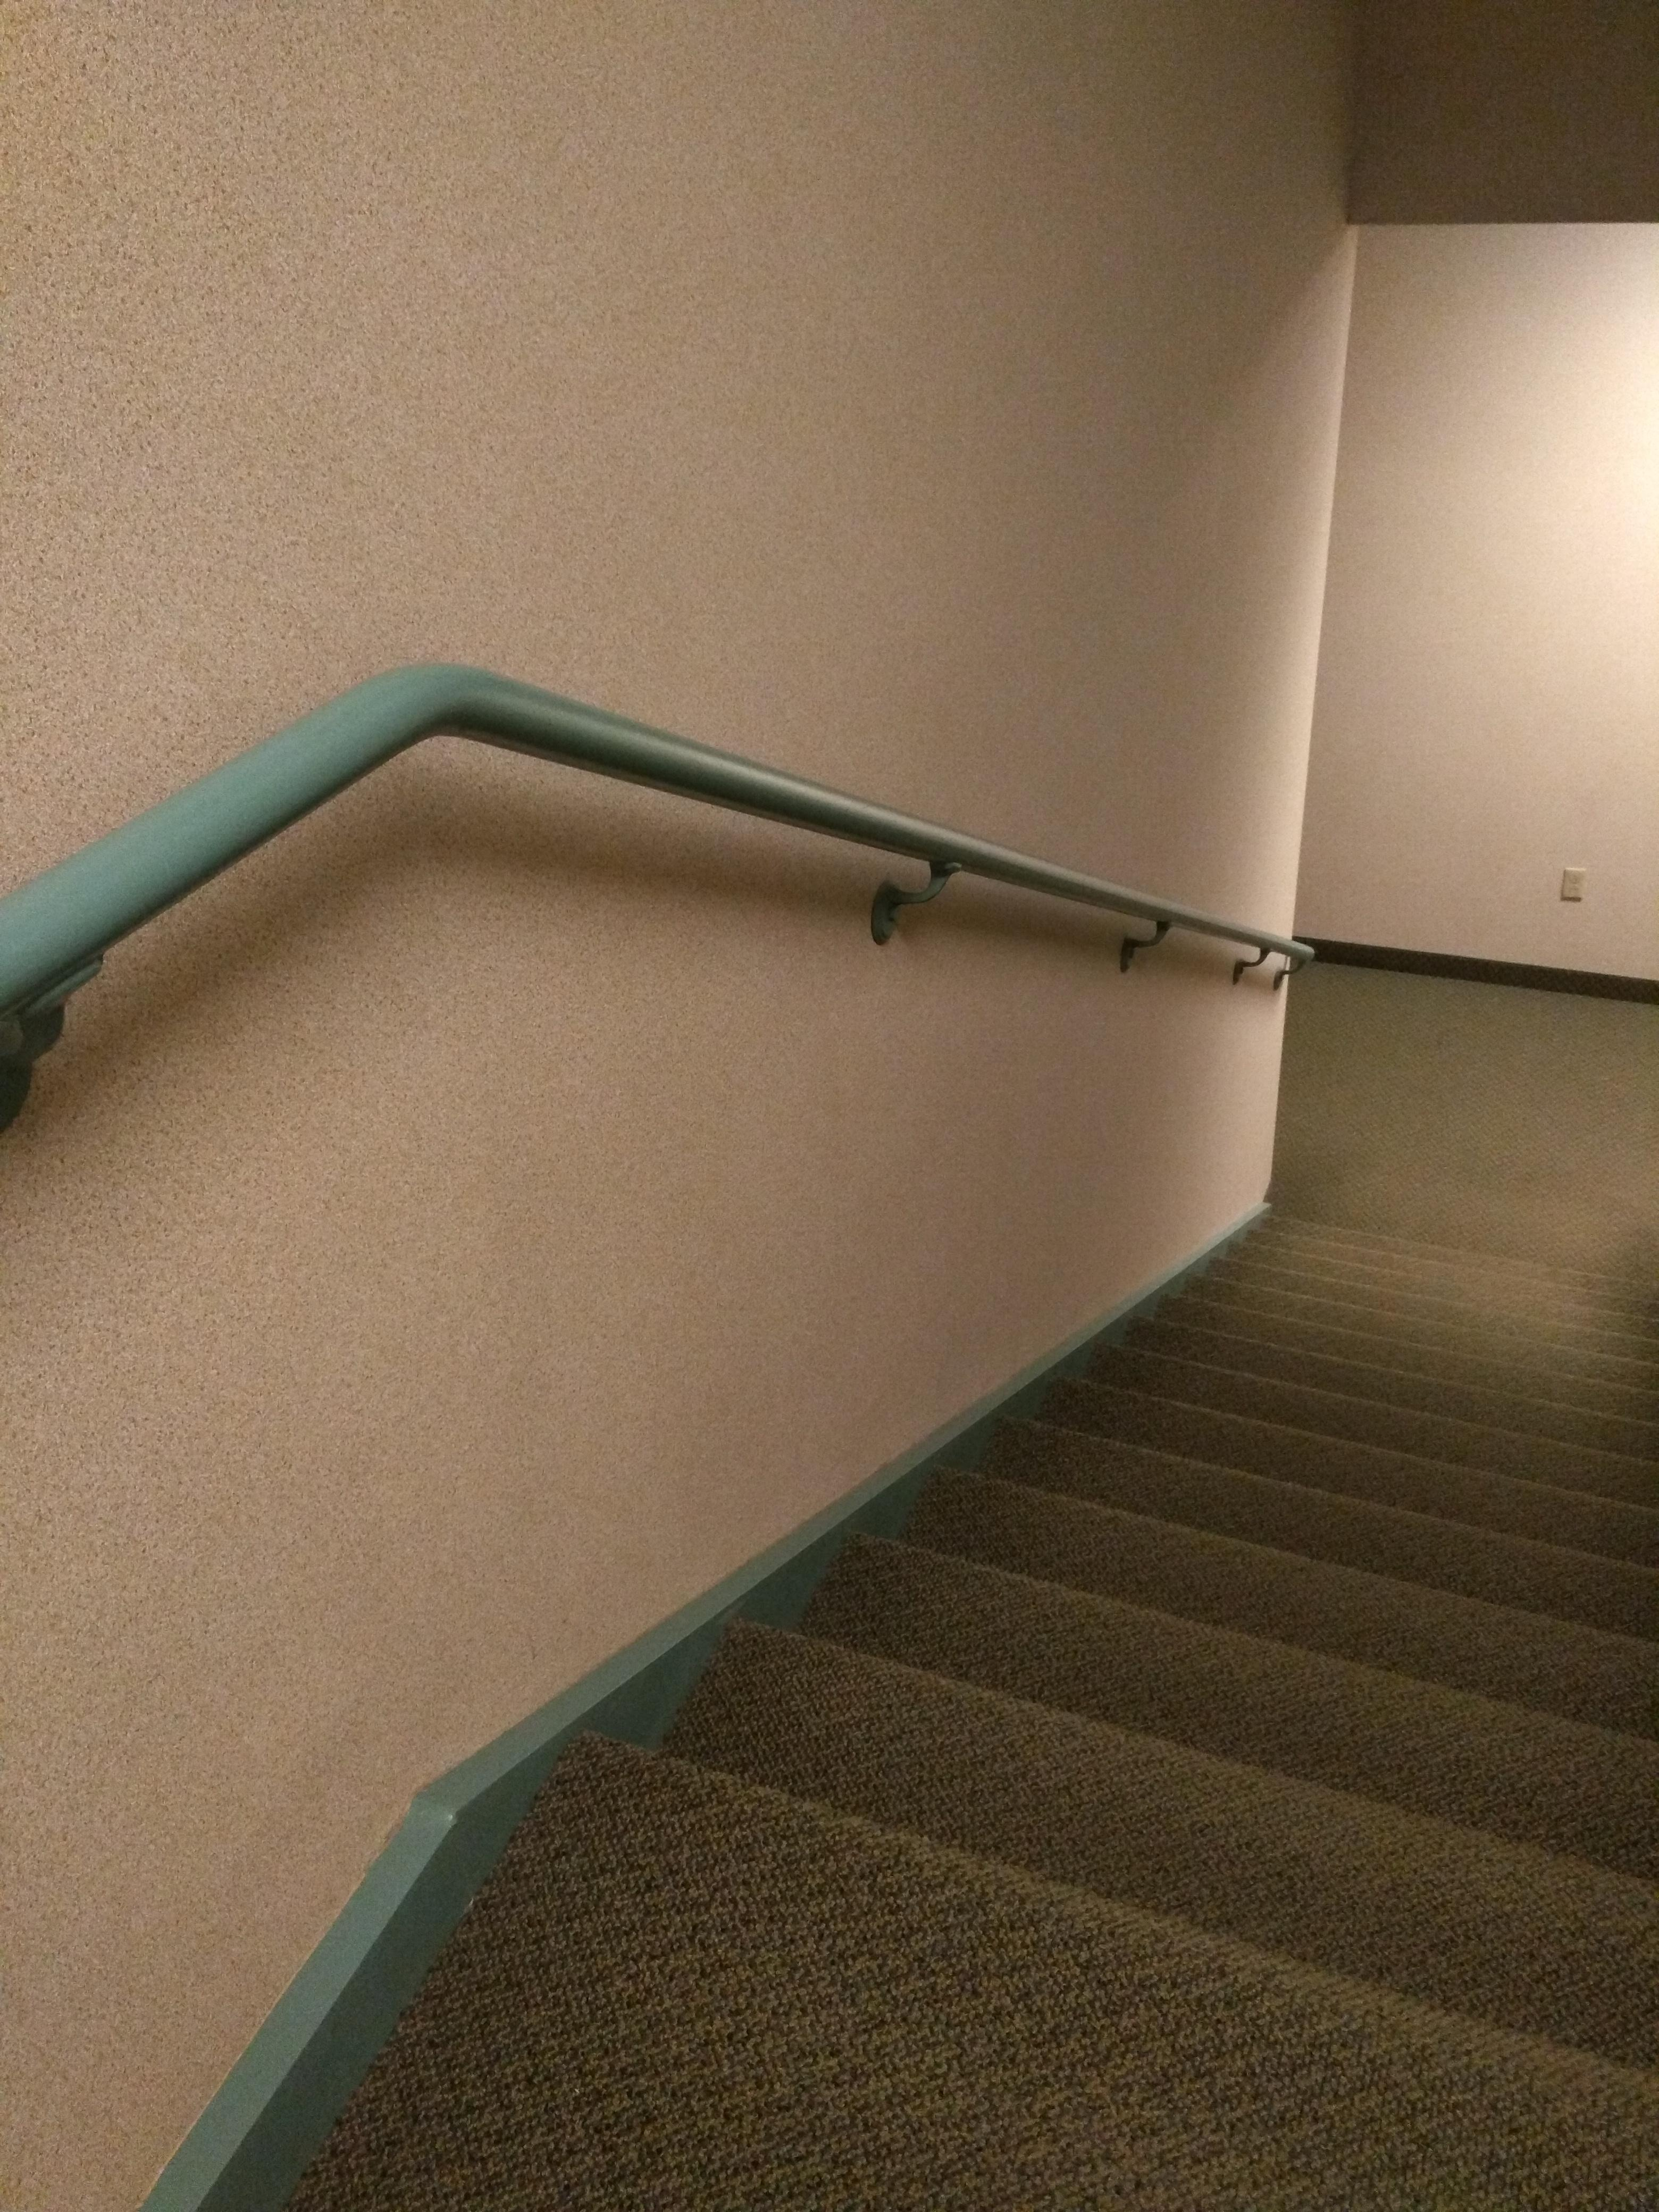stairs_down: (382, 1209, 1654, 2132)
